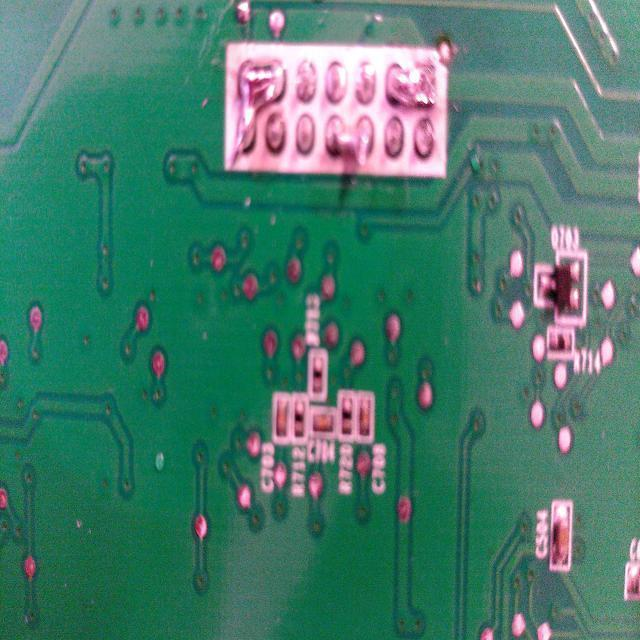Soldering shorted: (230, 59, 286, 173), (384, 56, 436, 116), (326, 112, 374, 170)
